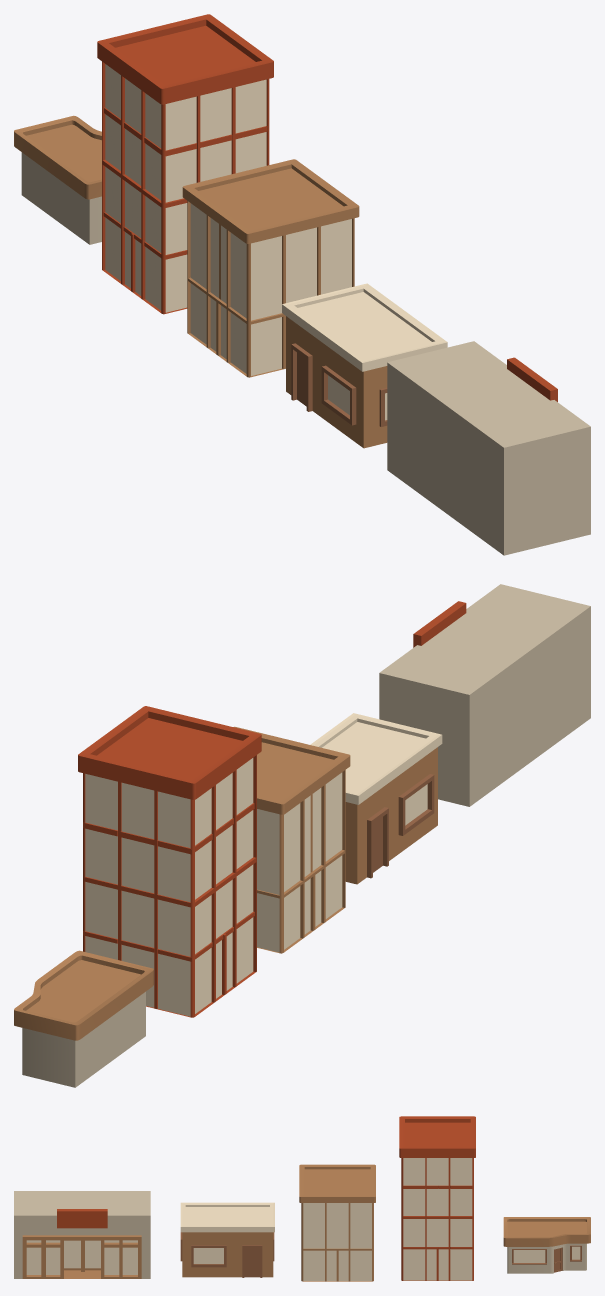
File: Edificio-3.fbx
The picture shows the model from 3 angles, top to bottom: view 1: azimuth 30°, elevation 25°; view 2: azimuth 150°, elevation 25°; view 3: azimuth 270°, elevation 25°; orthographic projection. The views are drawn at different scales.
Parts seen in each view (by area): view 1: Cubo.003, Cubo.002, Cubo, Cubo.001, Edificio1; view 2: Cubo.003, Cubo.002, Cubo, Edificio1, Cubo.001; view 3: Cubo.003, Cubo.002, Cubo, Cubo.001, Edificio1.
Boxes of the visible parts, <box> form: Cubo.003: <box>97,14,273,314</box>; Cubo.002: <box>387,341,590,555</box>; Cubo: <box>182,159,359,377</box>; Cubo.001: <box>282,283,447,448</box>; Edificio1: <box>14,115,101,244</box>; Cubo.003: <box>78,706,261,1017</box>; Cubo.002: <box>379,584,590,806</box>; Cubo: <box>233,726,350,953</box>; Edificio1: <box>14,950,153,1087</box>; Cubo.001: <box>310,713,442,884</box>; Cubo.003: <box>399,1116,475,1280</box>; Cubo.002: <box>14,1191,150,1278</box>; Cubo: <box>299,1164,375,1281</box>; Cubo.001: <box>180,1202,274,1277</box>; Edificio1: <box>503,1217,590,1273</box>.
Size of the model in its own units: 420 by 810 by 3165.
